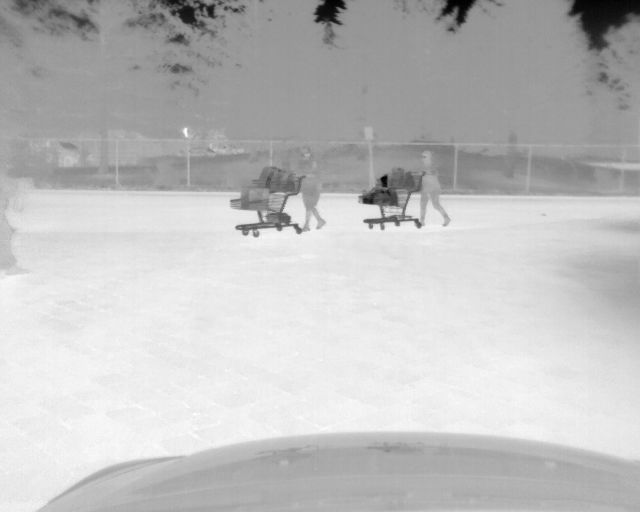people: (293, 145, 329, 233), (415, 149, 451, 227)
